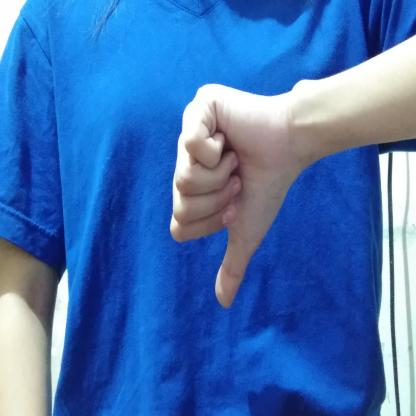no: (164, 81, 308, 314)
